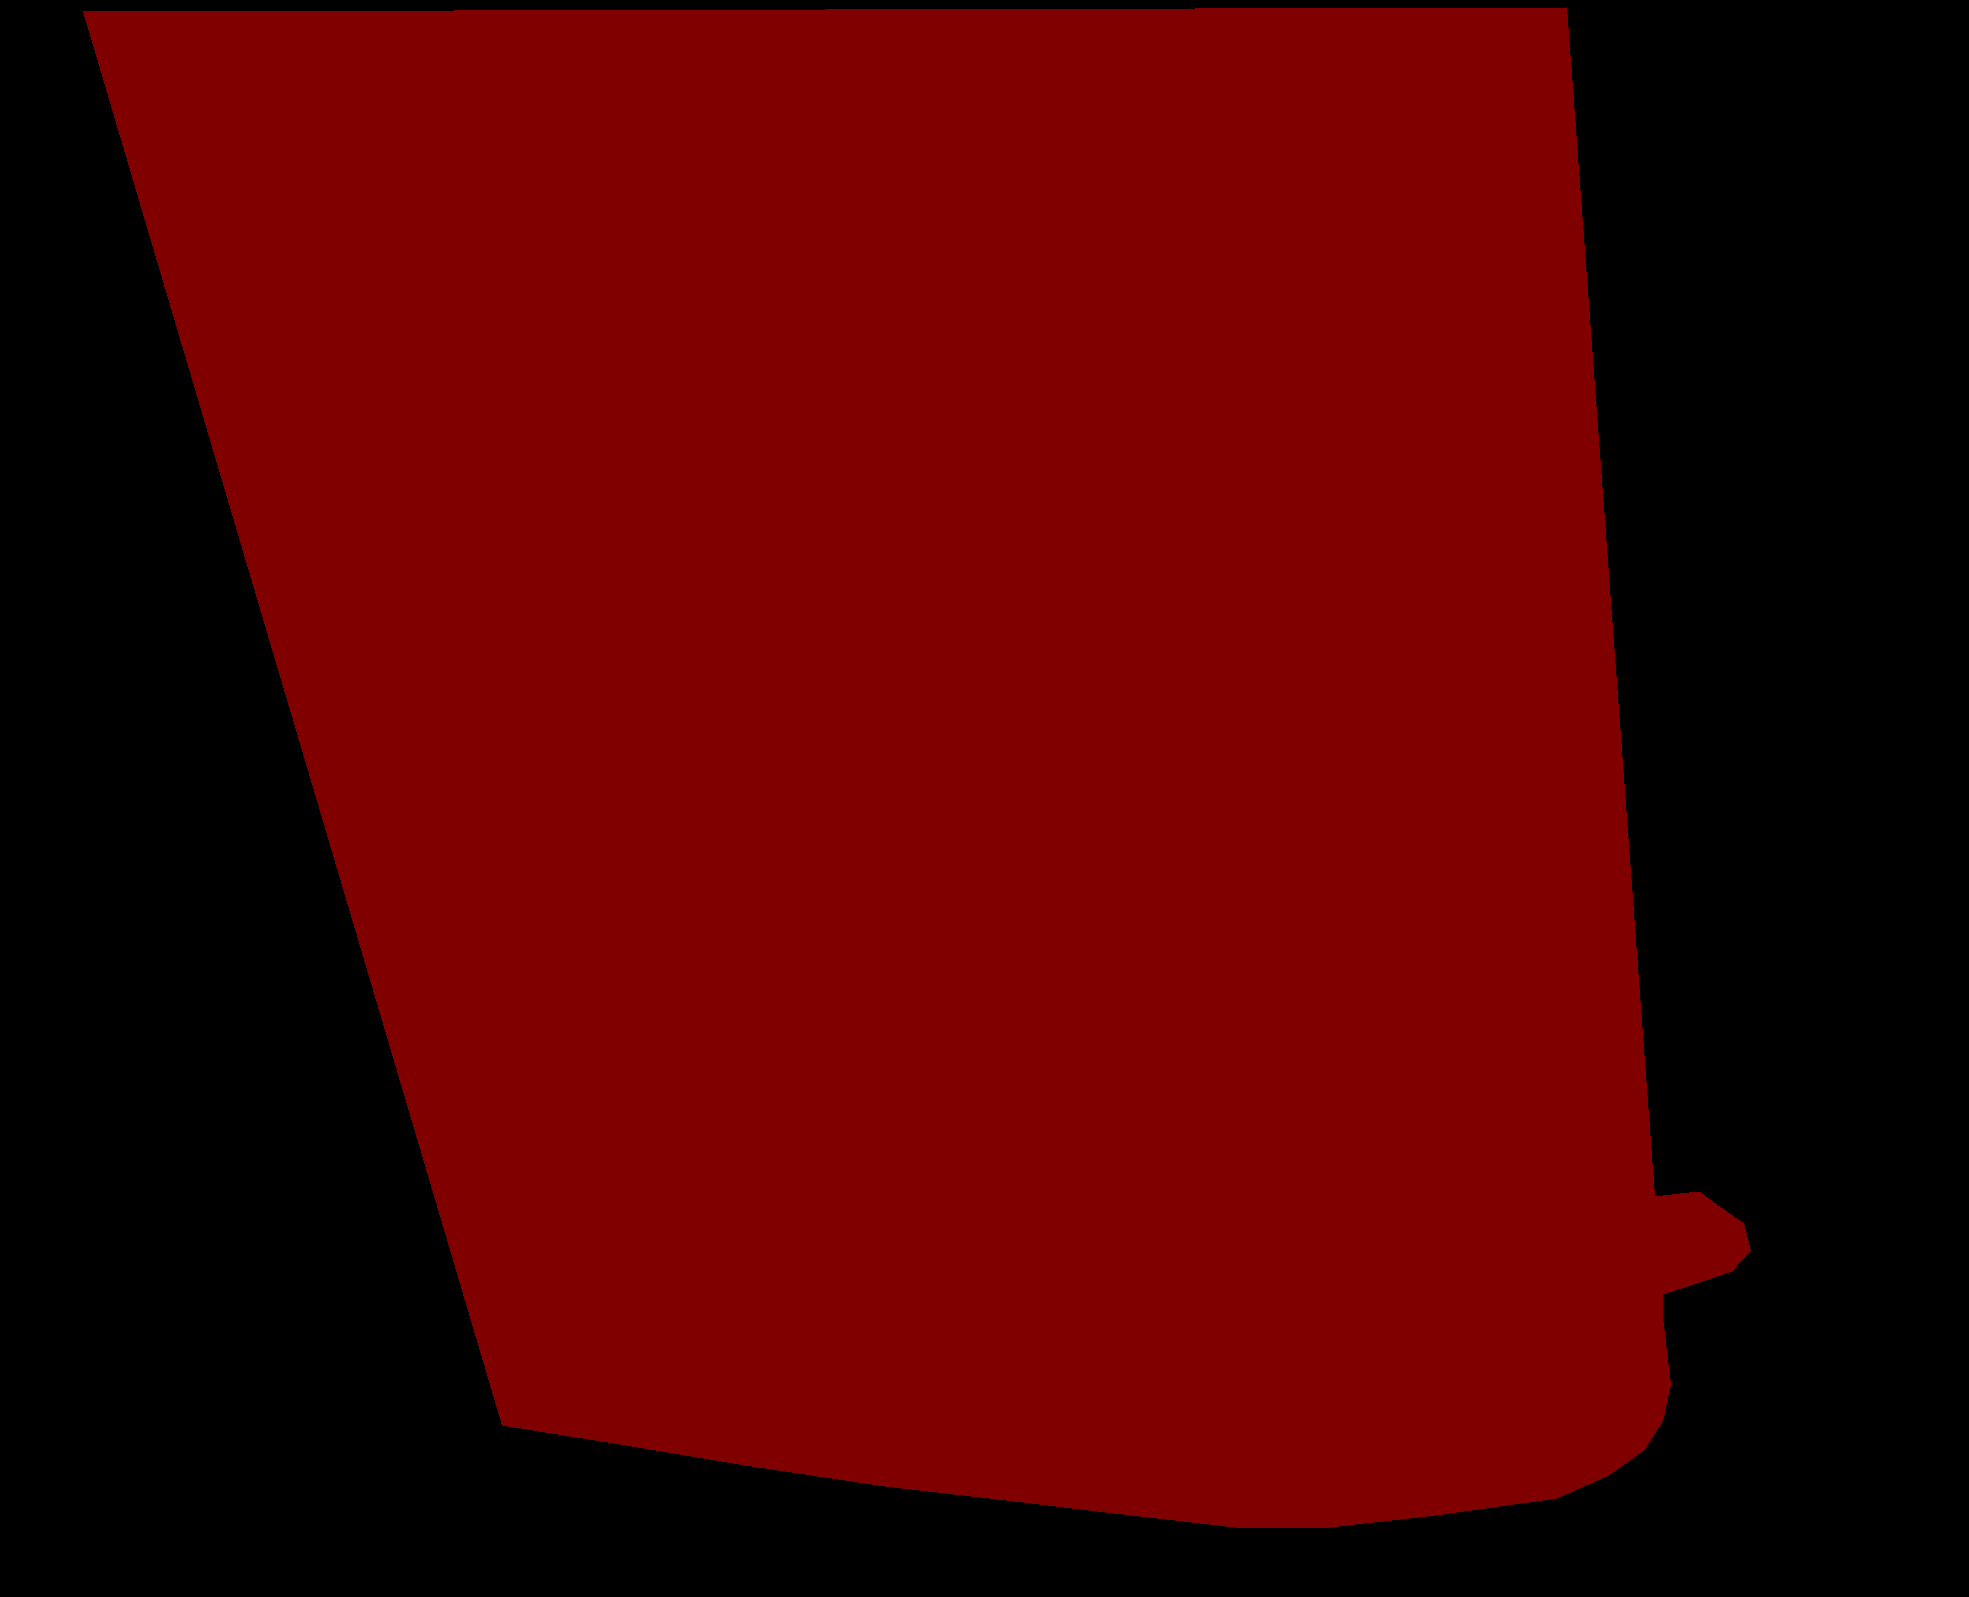sign: (83, 7, 1751, 1527)
